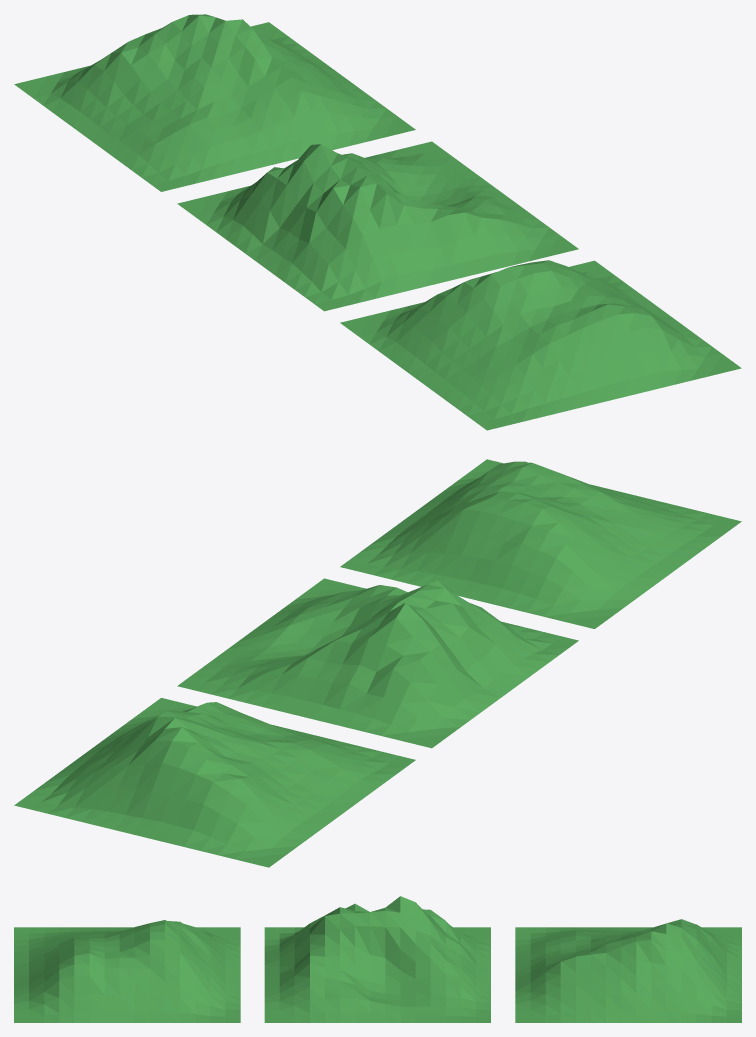
The model's file is hills.dae.
3 renders of one model, top to bottom at view 1: azimuth 30°, elevation 25°; view 2: azimuth 150°, elevation 25°; view 3: azimuth 270°, elevation 25°, orthographic. The views are drawn at different scales.
Parts seen in each view (by area): view 1: Landscape.023, Landscape.028, Landscape.026; view 2: Landscape.026, Landscape.023, Landscape.028; view 3: Landscape.026, Landscape.028, Landscape.023.
Part boxes in pixels (<box>): Landscape.023: <box>14,14,415,191</box>; Landscape.028: <box>340,260,741,430</box>; Landscape.026: <box>177,141,578,311</box>; Landscape.026: <box>177,578,578,748</box>; Landscape.023: <box>14,698,415,867</box>; Landscape.028: <box>340,459,741,628</box>; Landscape.026: <box>264,896,490,1022</box>; Landscape.028: <box>14,920,240,1022</box>; Landscape.023: <box>515,919,741,1022</box>.
Bounding box in the file's own units: 2 × 6.43 × 0.6139.
